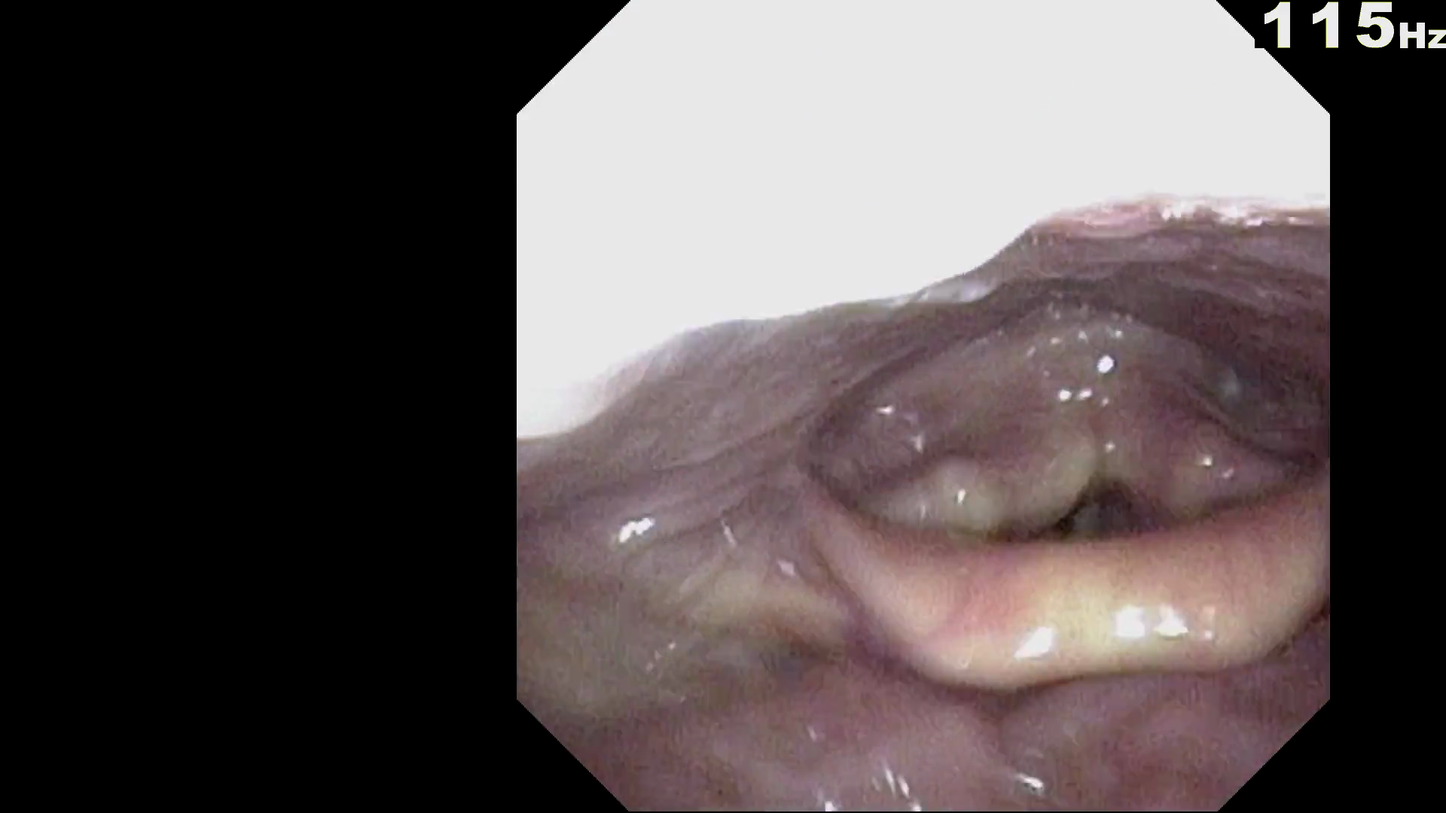epiglottis: (780, 390, 1305, 630)
